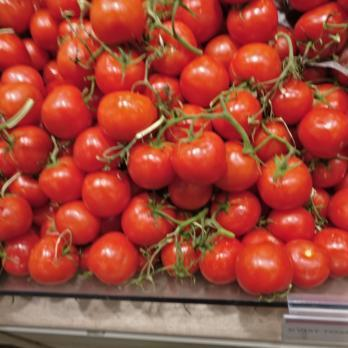Tomato: (0, 0, 345, 299)
